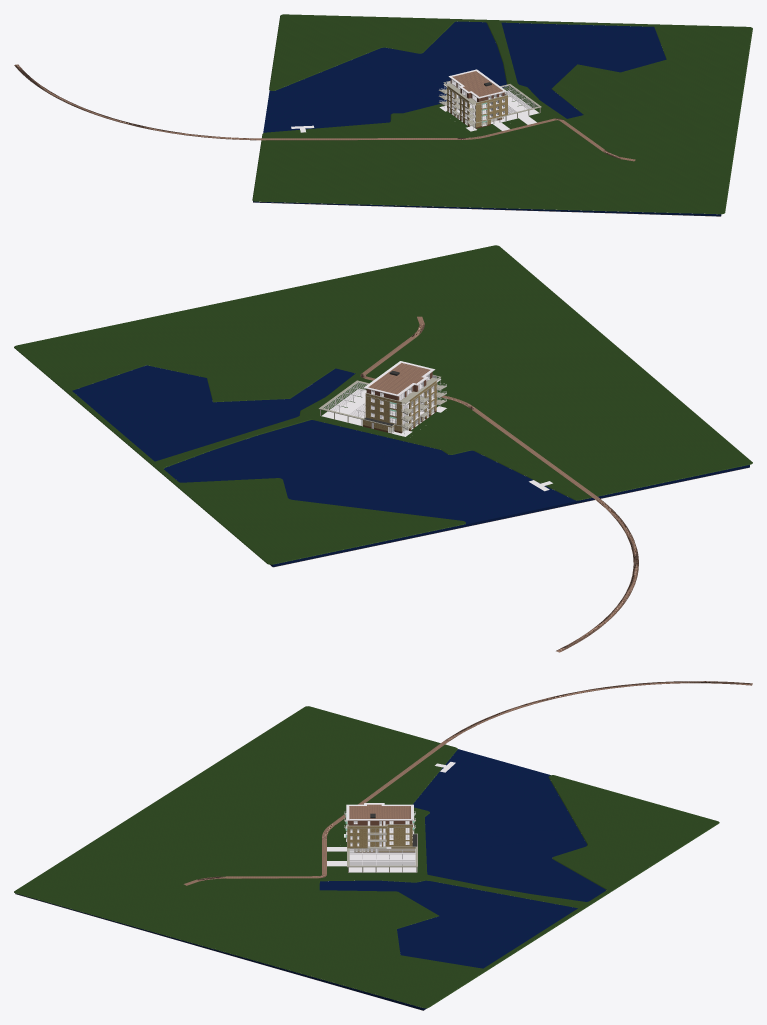
File: woolderpark.glb
3 renders of one model, top to bottom at view 1: azimuth 30°, elevation 25°; view 2: azimuth 150°, elevation 25°; view 3: azimuth 270°, elevation 25°, orthographic. The views are drawn at different scales.
Parts seen in each view (by area): view 1: Object_4, Object_10, Object_12, Object_6, Object_3, Object_17; view 2: Object_4, Object_10, Object_12, Object_6, Object_3, Object_17; view 3: Object_4, Object_10, Object_12, Object_6, Object_3, Object_17.
Boxes of the visible parts, x1=… form: Object_4: x1=252, y1=14, x2=752, y2=214; Object_10: x1=253, y1=21, x2=721, y2=216; Object_12: x1=14, y1=64, x2=720, y2=216; Object_6: x1=291, y1=69, x2=539, y2=132; Object_3: x1=447, y1=86, x2=507, y2=127; Object_17: x1=259, y1=21, x2=747, y2=214; Object_4: x1=14, y1=245, x2=752, y2=564; Object_10: x1=72, y1=365, x2=749, y2=566; Object_12: x1=270, y1=316, x2=748, y2=652; Object_6: x1=321, y1=361, x2=558, y2=652; Object_3: x1=363, y1=381, x2=436, y2=431; Object_17: x1=318, y1=261, x2=749, y2=496; Object_4: x1=14, y1=706, x2=719, y2=1008; Object_10: x1=15, y1=749, x2=605, y2=1010; Object_12: x1=15, y1=681, x2=752, y2=1010; Object_6: x1=327, y1=762, x2=455, y2=872; Object_3: x1=347, y1=825, x2=415, y2=851; Object_17: x1=328, y1=813, x2=417, y2=881.
Size of the model in its own units: 313165 by 17200 by 299412.
Materials: 13 (13 with a texture image).
